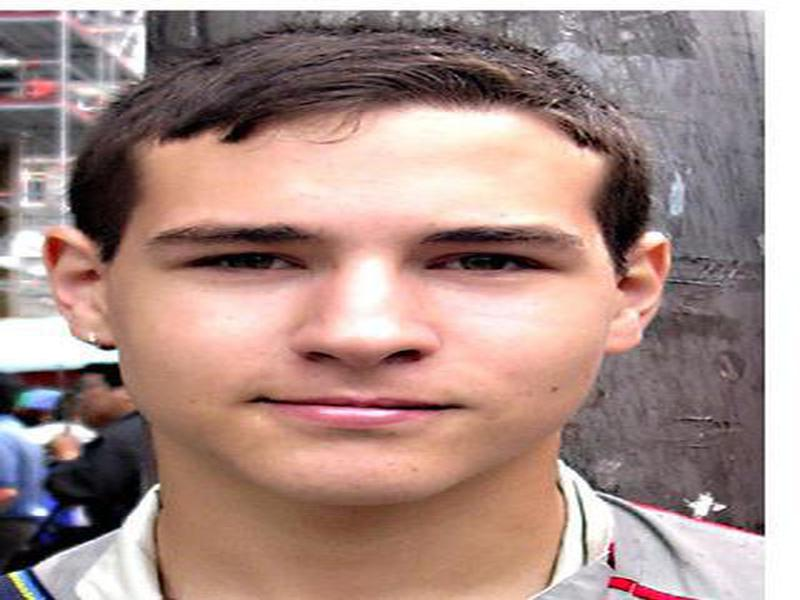without_mask: (108, 123, 614, 512)
